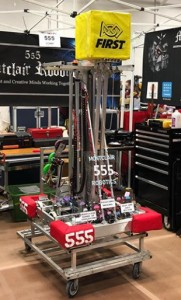cube: (74, 9, 130, 61)
